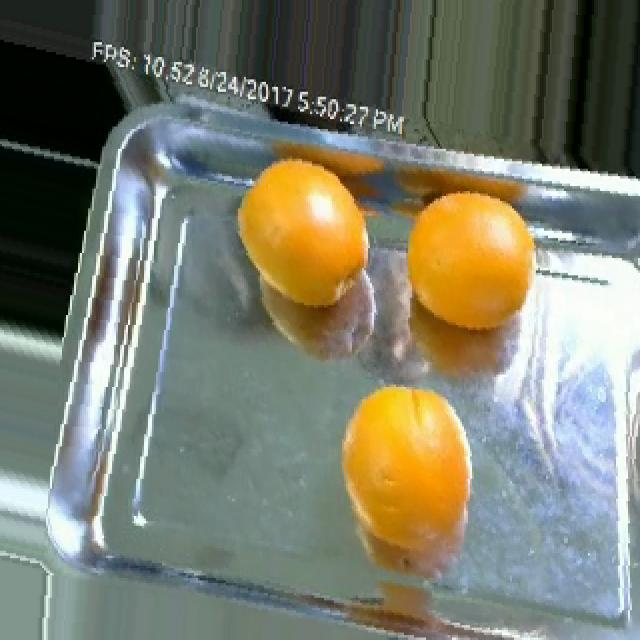Fruit: (390, 166, 564, 382), (218, 141, 394, 350), (326, 370, 484, 570)
